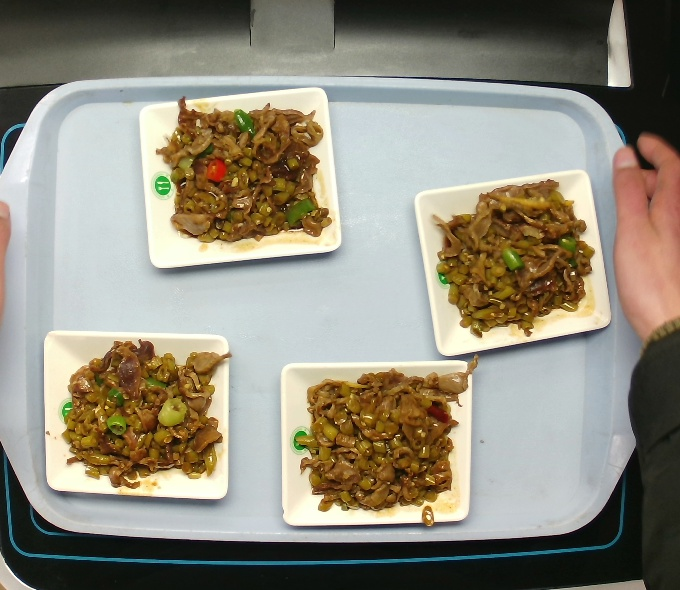wcq-JiZhen: (291, 352, 487, 529), (155, 87, 332, 248), (431, 175, 601, 341), (58, 335, 232, 496)
